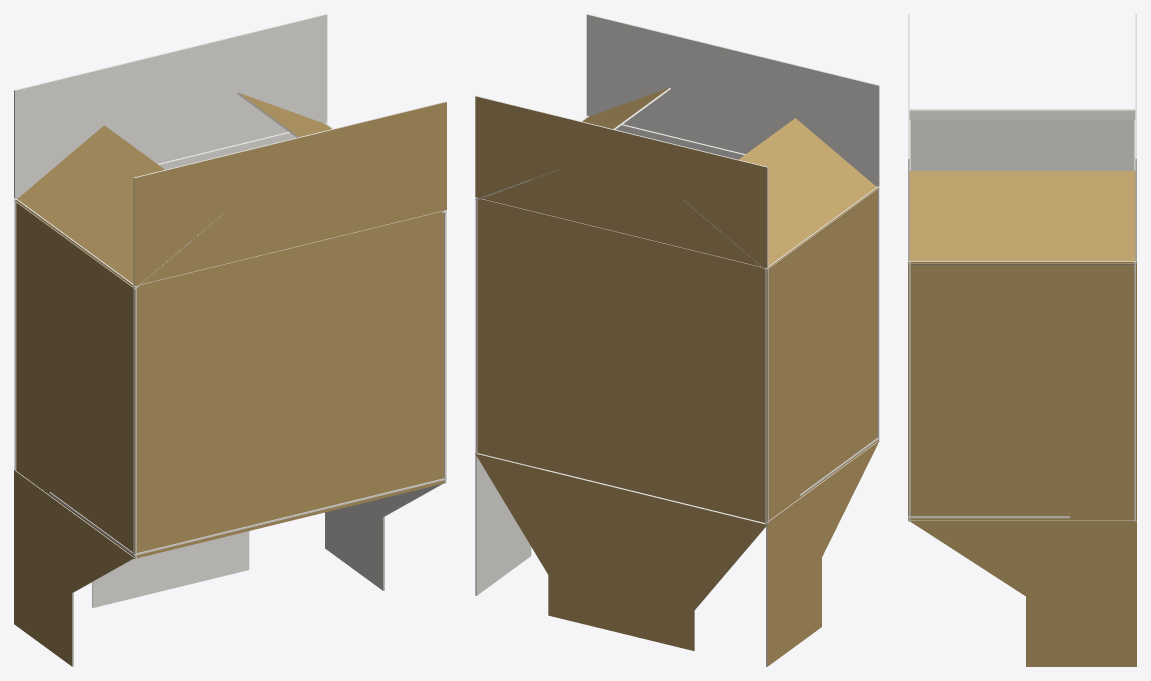
The picture shows the model from 3 angles, left to right: view 1: azimuth 30°, elevation 25°; view 2: azimuth 150°, elevation 25°; view 3: azimuth 270°, elevation 25°; orthographic projection. The views are drawn at different scales.
Parts seen in each view (by area): view 1: Packive_Box_fefco0216; view 2: Packive_Box_fefco0216; view 3: Packive_Box_fefco0216.
Boxes of the visible parts, x1,y1,x2,y2 form: Packive_Box_fefco0216: (14,14,446,666); Packive_Box_fefco0216: (475,14,879,666); Packive_Box_fefco0216: (908,14,1136,666).
Bounding box in the file's own units: 0.3 × 0.492 × 0.2.
Materials: 26 (13 with a texture image).
